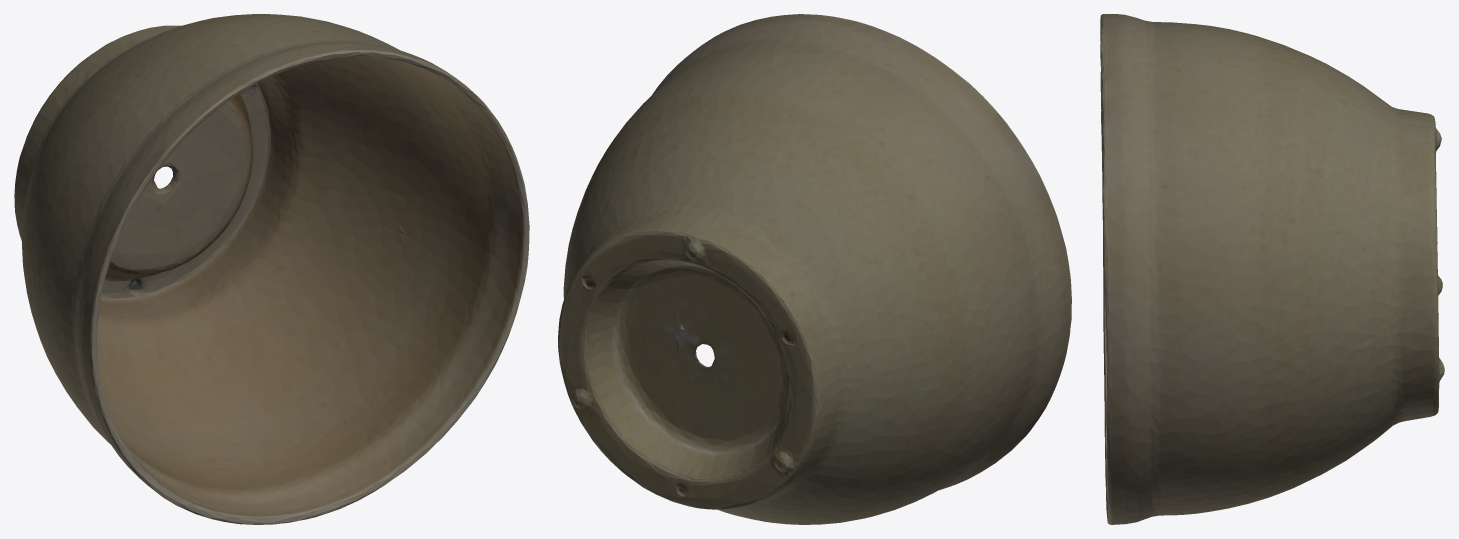
Rendered from Footed_Bowl_Sand.glb.
3 views of the same model, side by side, from view 1: azimuth 30°, elevation 25°; view 2: azimuth 150°, elevation 25°; view 3: azimuth 270°, elevation 25° (orthographic).
Visible parts, largest first — view 1: v0; view 2: v0; view 3: v0.
Part boxes in pixels (bbox=[...]): v0: bbox=[14, 14, 529, 524]; v0: bbox=[558, 14, 1071, 524]; v0: bbox=[1100, 14, 1444, 524].
Bounding box in the file's own units: 0.1609 × 0.1615 × 0.1088.
1 material, 1 textured.
